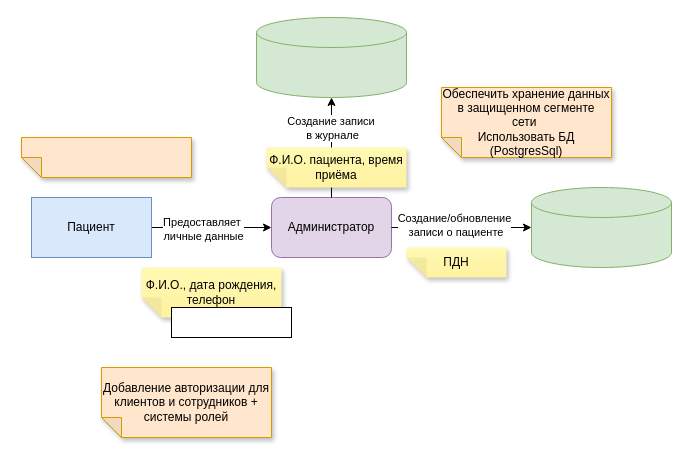
This 689x462 diagram has some shape labels left out. The shapes that lost their labels are listed below. From the top down, each one's centre as x and y in pixels, then its label:
At (x=331, y=57): "Journal-Doctor-FIO.xlsx (на File Server)".
At (x=107, y=158): "Шифрование ПДН (TLS)".
At (x=601, y=227): "Patients.xlsx (на File Server)".
At (x=231, y=322): "confidential-pii".
